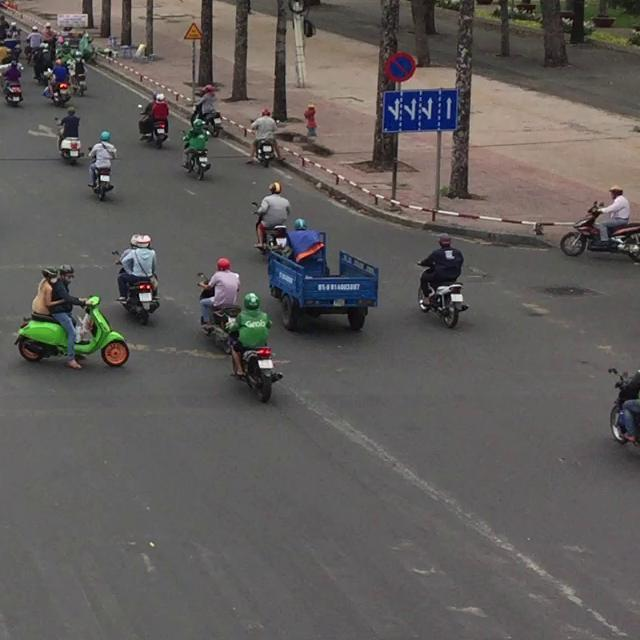Motorcycle: (13, 295, 129, 368), (559, 200, 639, 263), (224, 319, 283, 402), (416, 260, 469, 329), (112, 249, 160, 325), (196, 272, 241, 353), (250, 201, 292, 259), (180, 129, 211, 180), (136, 103, 168, 149), (87, 153, 116, 201), (53, 117, 82, 165), (253, 135, 275, 168)
